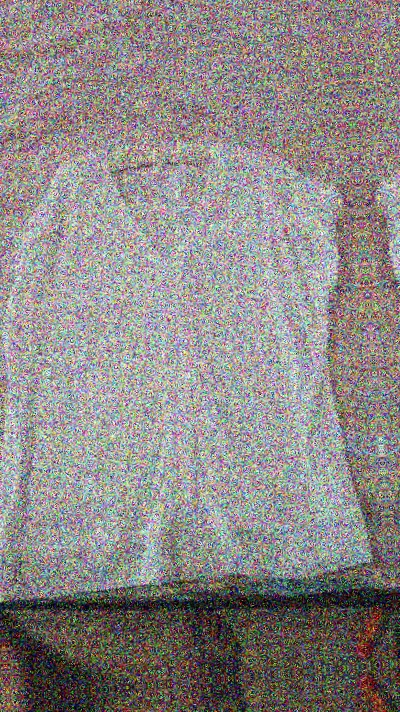Blouse: (0, 91, 382, 630), (363, 56, 400, 594)
